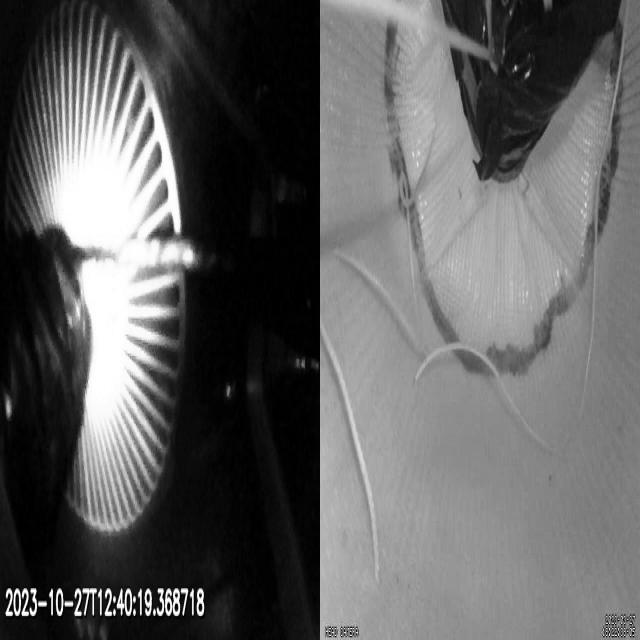red-circle: (383, 23, 624, 376)
